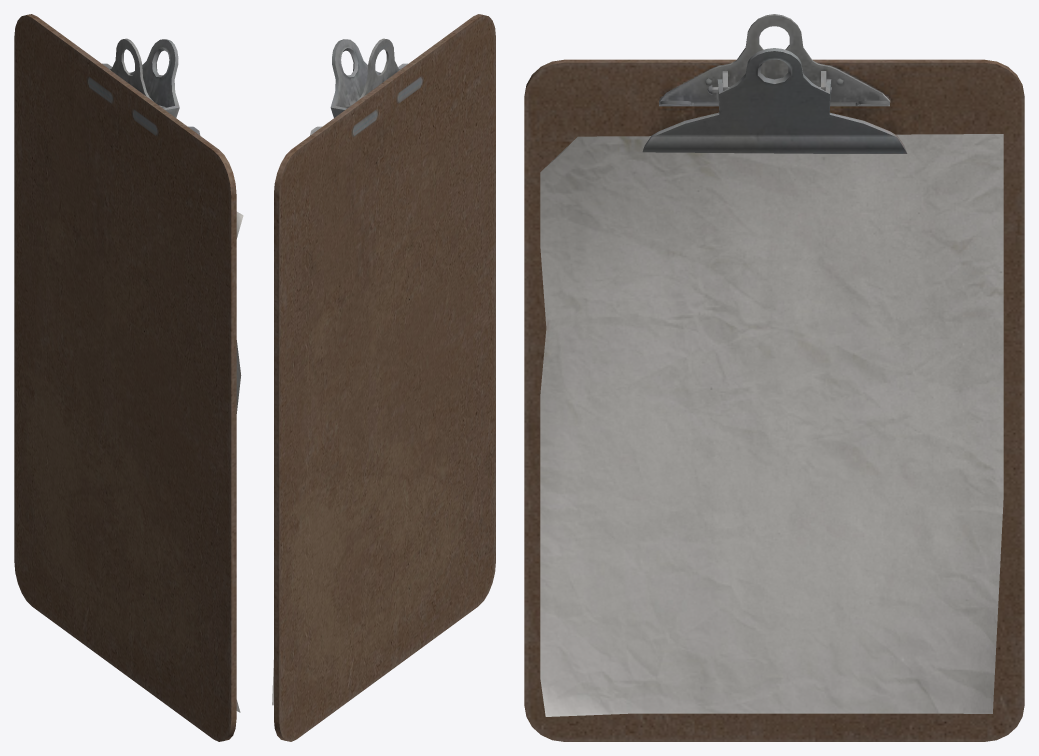
File: document_handler.glb
3 renders of one model, left to right at view 1: azimuth 30°, elevation 25°; view 2: azimuth 150°, elevation 25°; view 3: azimuth 270°, elevation 25°, orthographic. The views are drawn at different scales.
Visible parts, largest first — view 1: Clipboard, Clipboard_Paper; view 2: Clipboard; view 3: Clipboard_Paper, Clipboard.
Part boxes in pixels (left/top/right/bottom): Clipboard: left=14, top=14, right=236, bottom=741; Clipboard_Paper: left=236, top=211, right=243, bottom=712; Clipboard: left=274, top=14, right=495, bottom=741; Clipboard_Paper: left=540, top=134, right=1003, bottom=716; Clipboard: left=524, top=14, right=1024, bottom=741.
Size of the model in its own units: 0.0295 by 0.3641 by 0.2267.
Materials: 1 (1 with a texture image).
